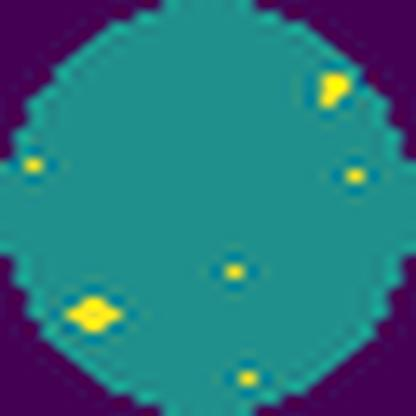Loc: (66, 294, 122, 334), (318, 72, 349, 109)
